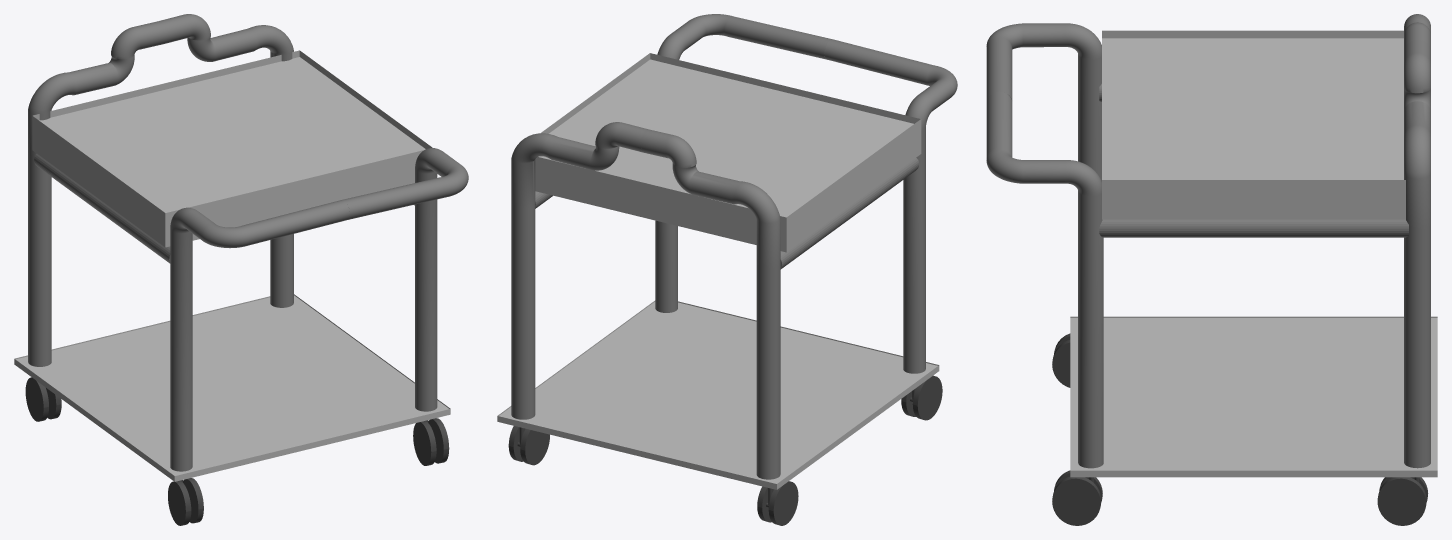
File: Surg Trolley.fbx
The picture shows the model from 3 angles, left to right: view 1: azimuth 30°, elevation 25°; view 2: azimuth 150°, elevation 25°; view 3: azimuth 270°, elevation 25°; orthographic projection. The views are drawn at different scales.
Parts seen in each view (by area): view 1: Cube.001, Cube, Cylinder.006, Cylinder, Cylinder.003; view 2: Cube, Cube.001, Cylinder, Cylinder.006, Cylinder.003; view 3: Cube.001, Cube, Cylinder.006, Cylinder, Cylinder.003.
Boxes of the visible parts, x1,y1,x2,y2 form: Cube.001: (32,50,432,247); Cube: (14,294,450,481); Cylinder.006: (170,148,468,471); Cylinder: (28,14,414,366); Cylinder.003: (25,377,449,525); Cube: (497,300,939,489); Cube.001: (535,53,921,252); Cylinder: (511,122,918,479); Cylinder.006: (655,14,957,373); Cylinder.003: (508,375,942,525); Cube.001: (1102,30,1405,219); Cube: (1070,316,1437,477); Cylinder.006: (986,23,1103,468); Cylinder: (1099,14,1430,468); Cylinder.003: (1052,333,1428,525).
Bounding box in the file's own units: 342 × 429 × 423.
